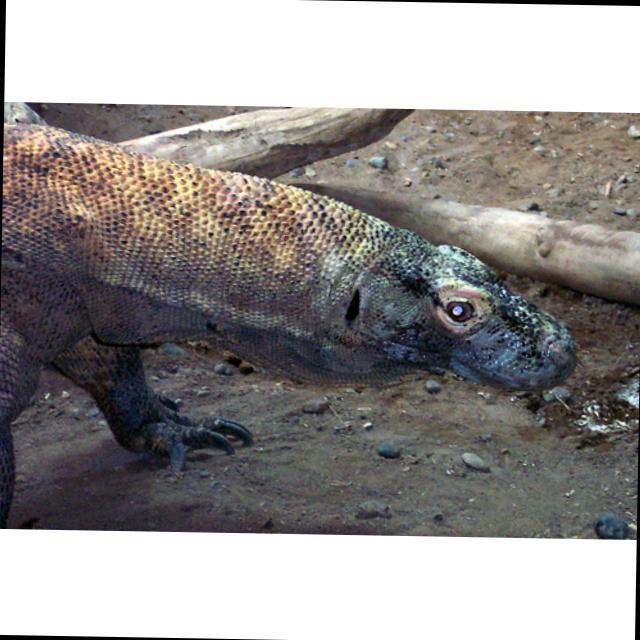KomodoDragon: (0, 119, 577, 534)
